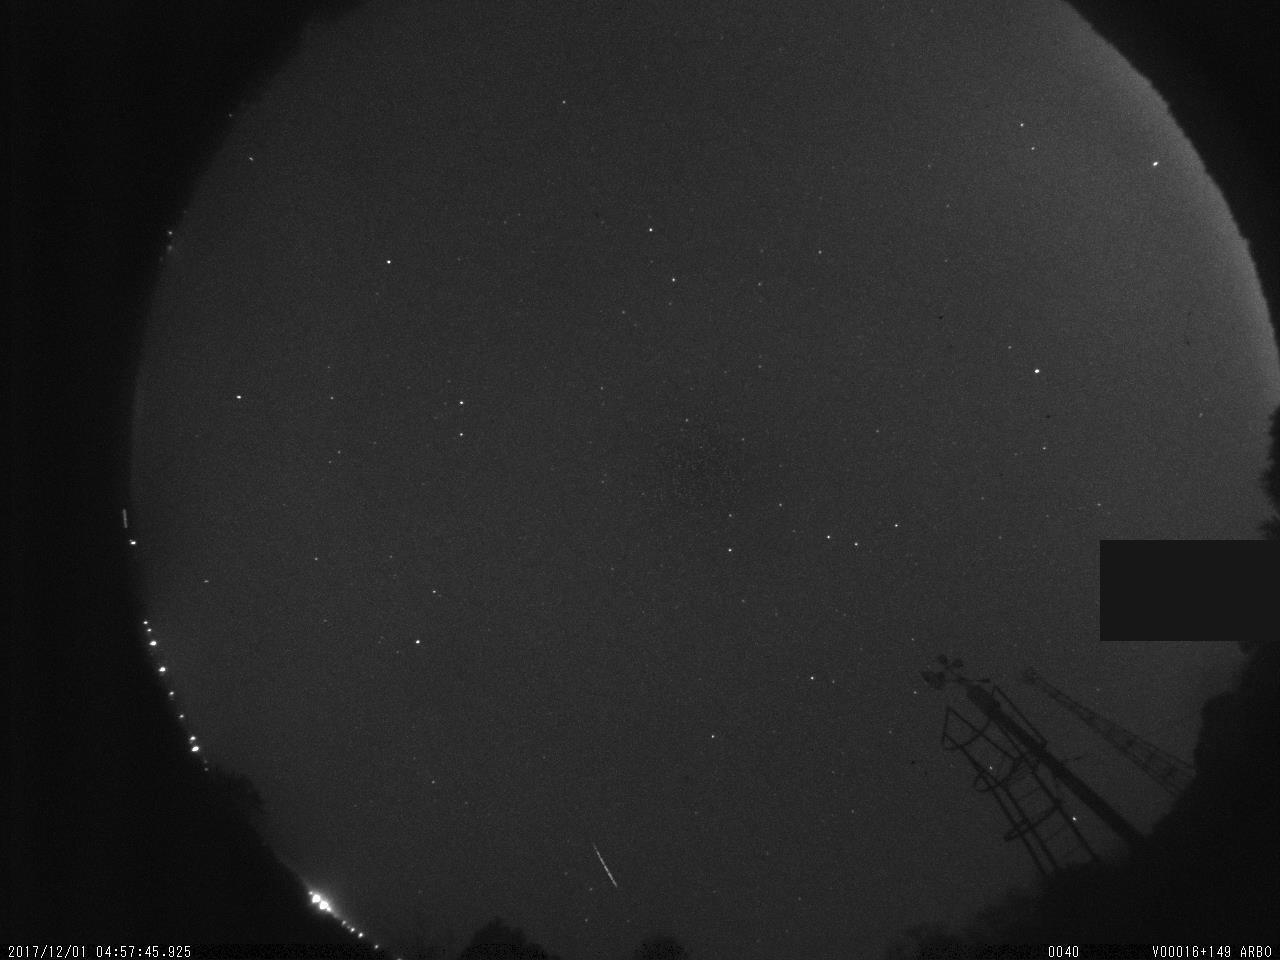meteor: (567, 830, 641, 900)
